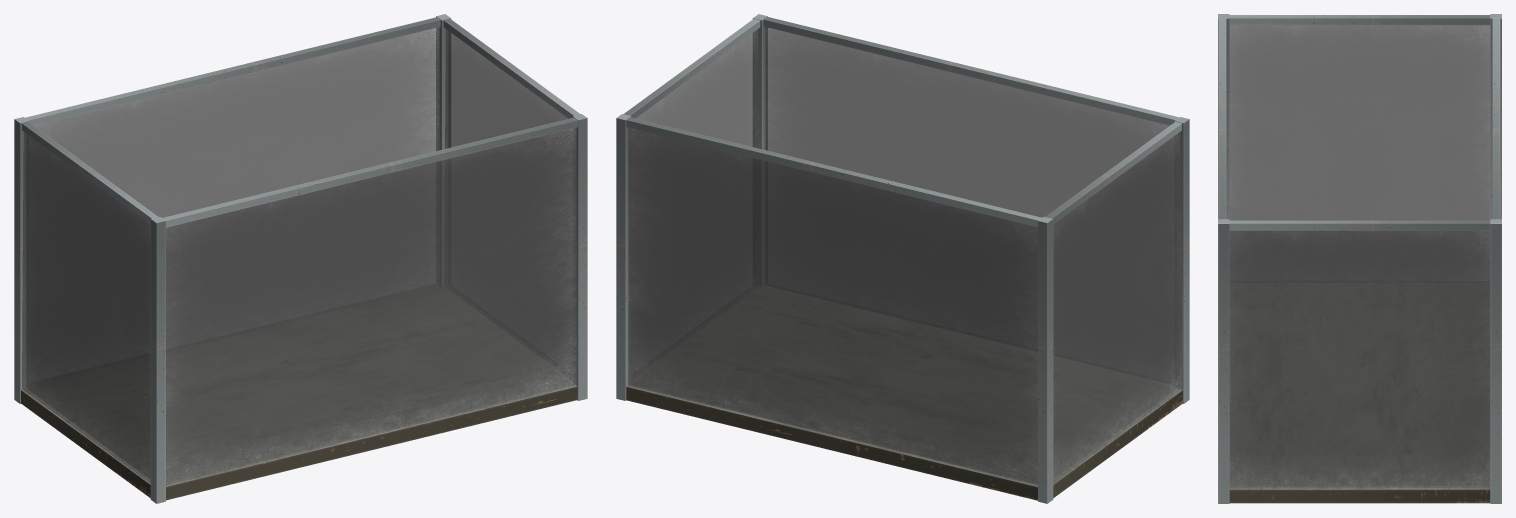
The model's file is cabin08a.fbx.
The picture shows the model from 3 angles, left to right: view 1: azimuth 30°, elevation 25°; view 2: azimuth 150°, elevation 25°; view 3: azimuth 270°, elevation 25°; orthographic projection.
Visible parts, largest first — view 1: cabin08a; view 2: cabin08a; view 3: cabin08a.
Part boxes in pixels (box(x1,y1,x2,y2)): cabin08a: box(14, 14, 587, 503); cabin08a: box(616, 14, 1189, 503); cabin08a: box(1218, 14, 1501, 503).
Bounding box in the file's own units: 92.93 × 57.84 × 53.11.
